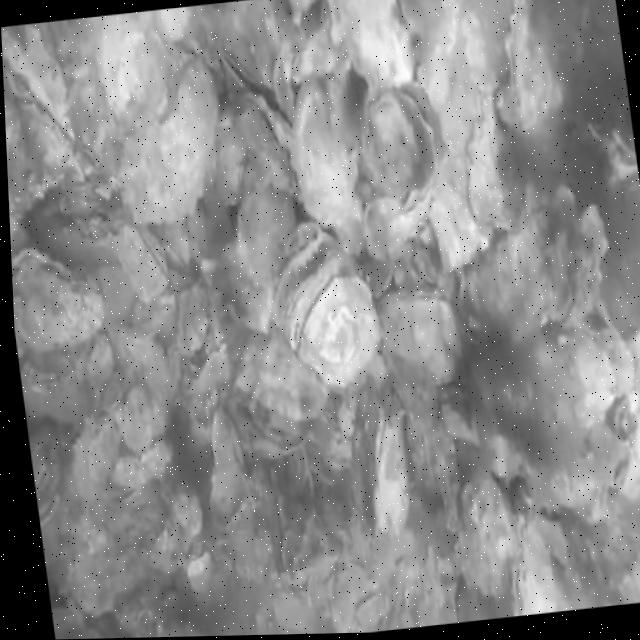Oyster-Closed: (1, 23, 74, 176), (379, 289, 462, 382), (550, 208, 609, 326), (102, 205, 166, 303), (214, 28, 278, 113), (496, 0, 535, 139), (512, 522, 565, 616), (371, 410, 409, 537), (36, 465, 59, 525), (31, 453, 48, 500)
Oyster-Indeterminate: (121, 61, 218, 226), (294, 80, 356, 224), (327, 0, 414, 100), (560, 503, 640, 610), (453, 468, 517, 601), (467, 95, 524, 229), (237, 161, 297, 284), (205, 241, 273, 330), (363, 198, 407, 262), (335, 562, 368, 633), (76, 334, 113, 393), (122, 388, 152, 452), (362, 250, 392, 299), (189, 551, 213, 611), (185, 286, 208, 347), (177, 287, 194, 354), (354, 594, 387, 623), (98, 384, 121, 412)
Oyster-Open: (272, 228, 382, 388), (233, 322, 331, 442), (362, 78, 442, 198), (12, 249, 106, 348), (539, 324, 617, 431), (583, 119, 637, 176), (588, 424, 632, 488)
